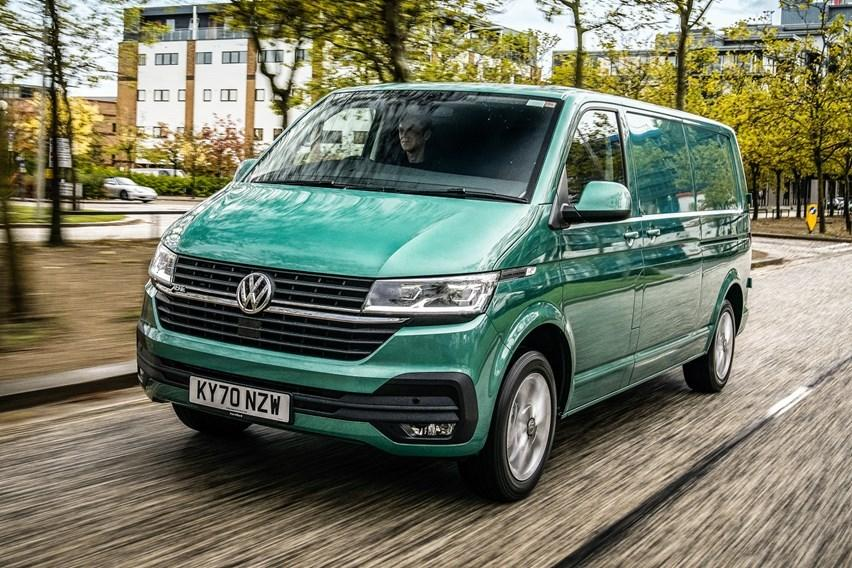car: (102, 175, 159, 204)
van: (136, 81, 755, 503)
